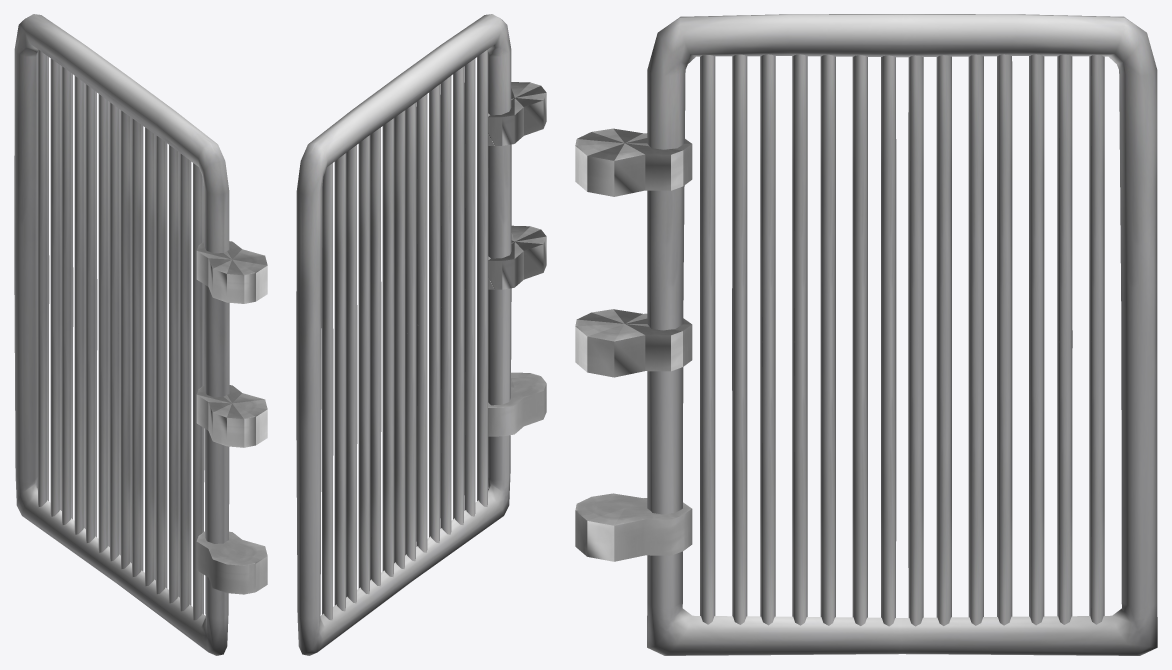
3 views of the same model, side by side, from view 1: azimuth 30°, elevation 25°; view 2: azimuth 150°, elevation 25°; view 3: azimuth 270°, elevation 25° (orthographic). The views are drawn at different scales.
Parts seen in each view (by area): view 1: Box01; view 2: Box01; view 3: Box01.
Part boxes in pixels (x1,y1,x2,y2): Box01: (14, 14, 267, 655); Box01: (296, 14, 546, 655); Box01: (575, 14, 1157, 655).
Bounding box in the file's own units: 0.0116 × 0.0879 × 0.1067.
